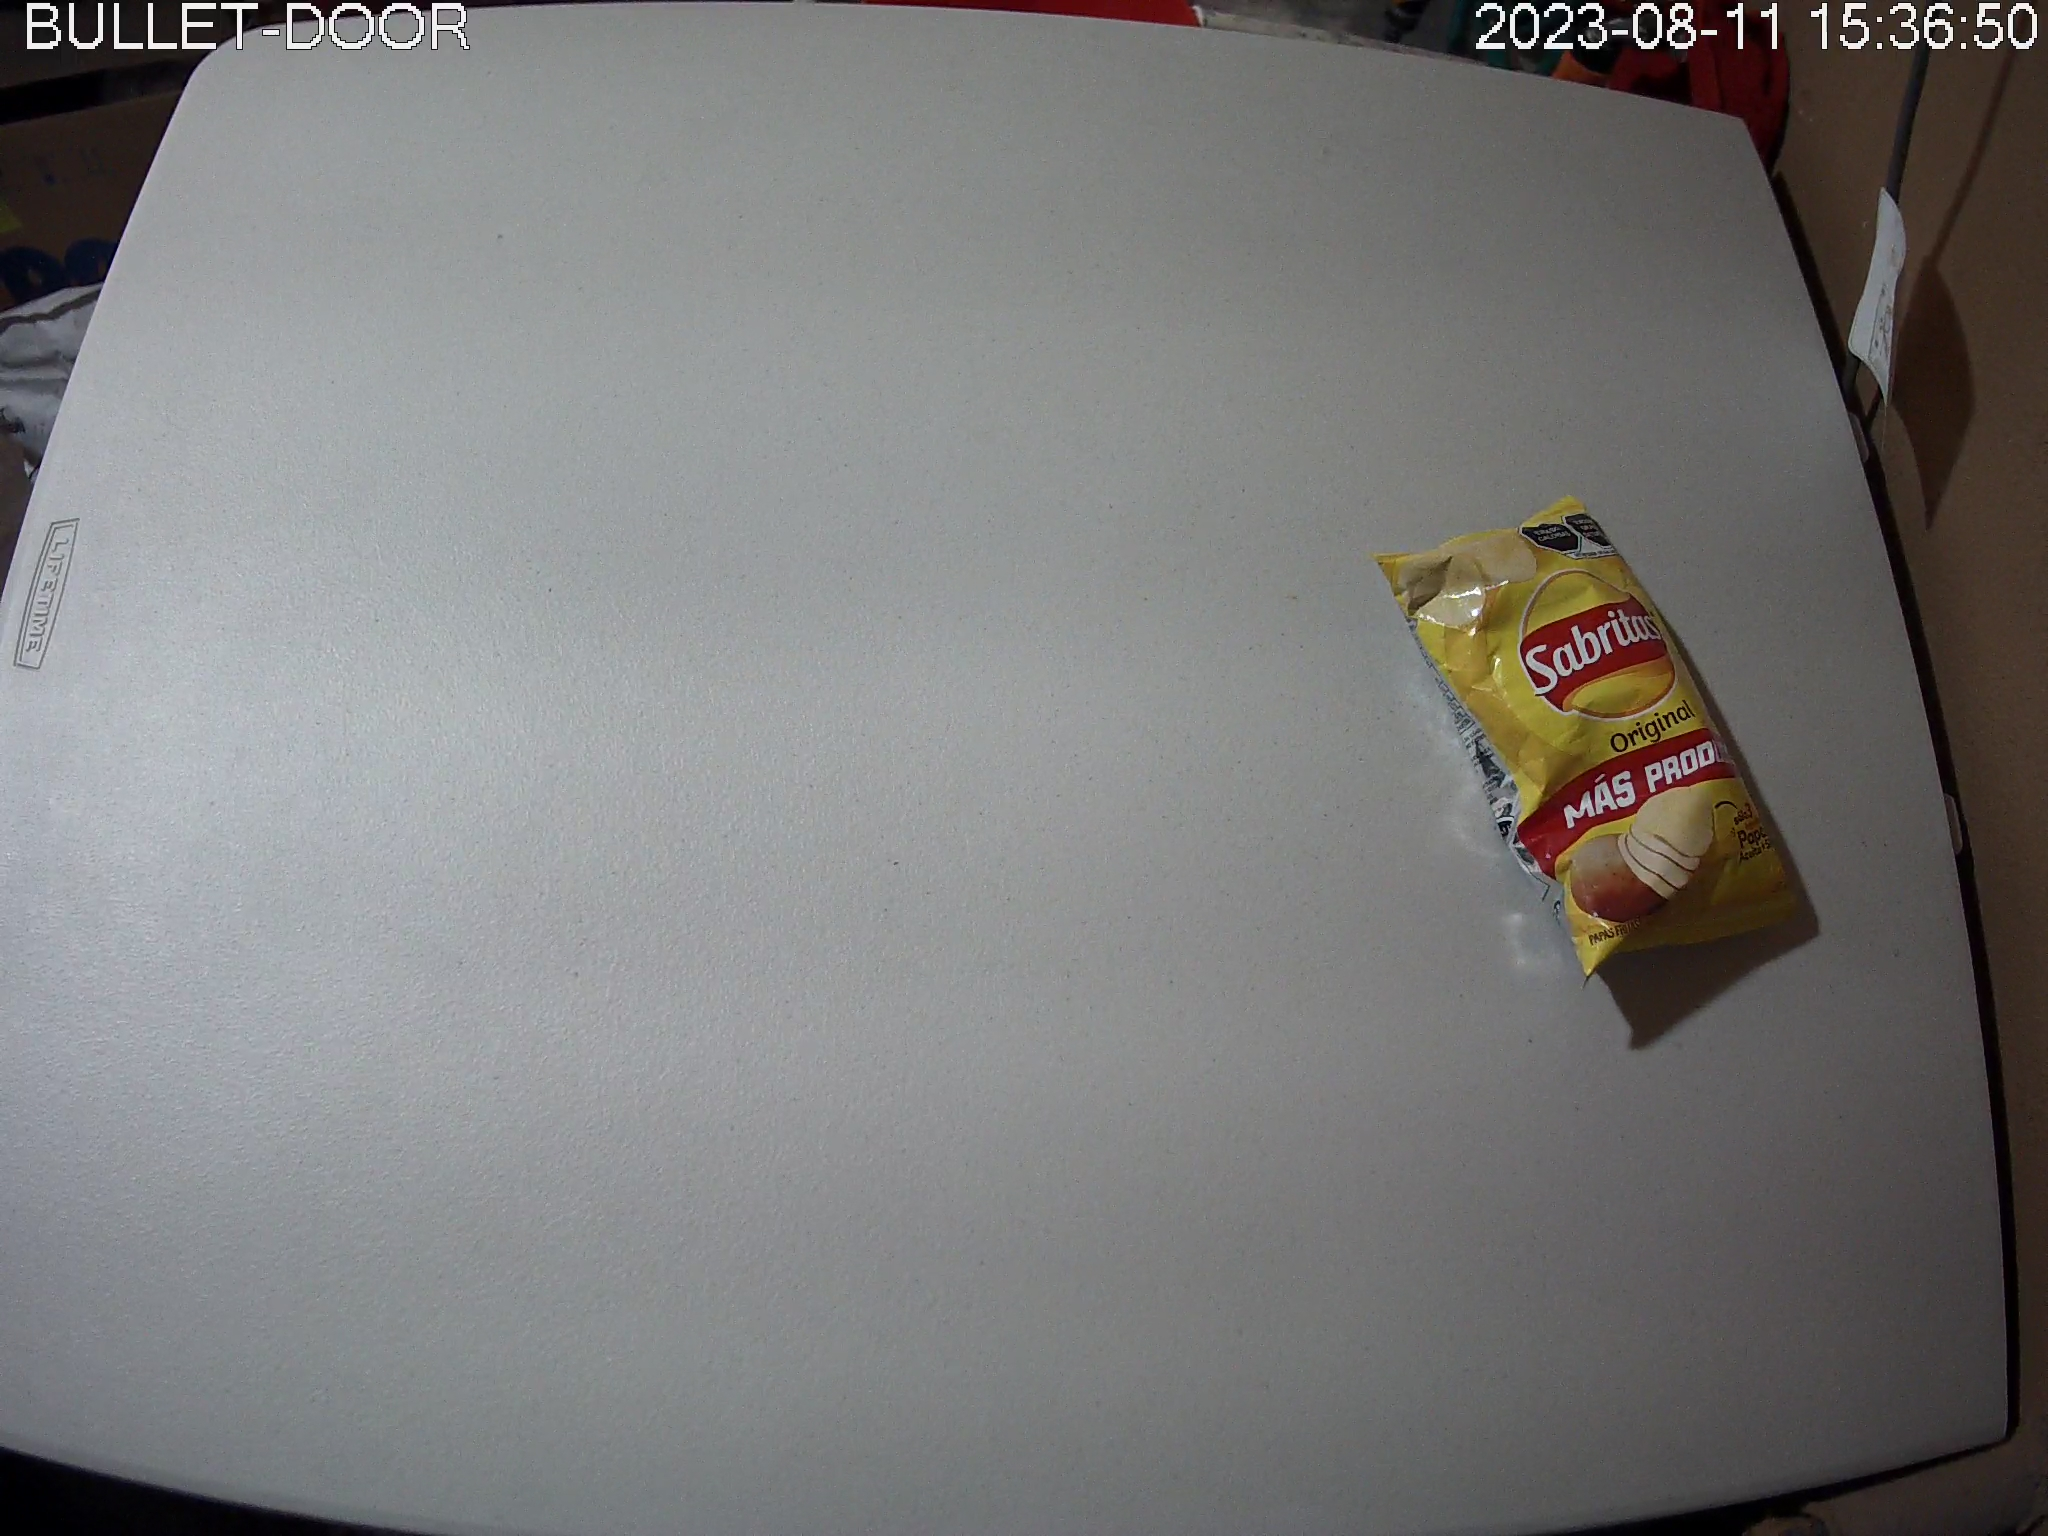Sabritas_45_F: (1371, 494, 1804, 994)
